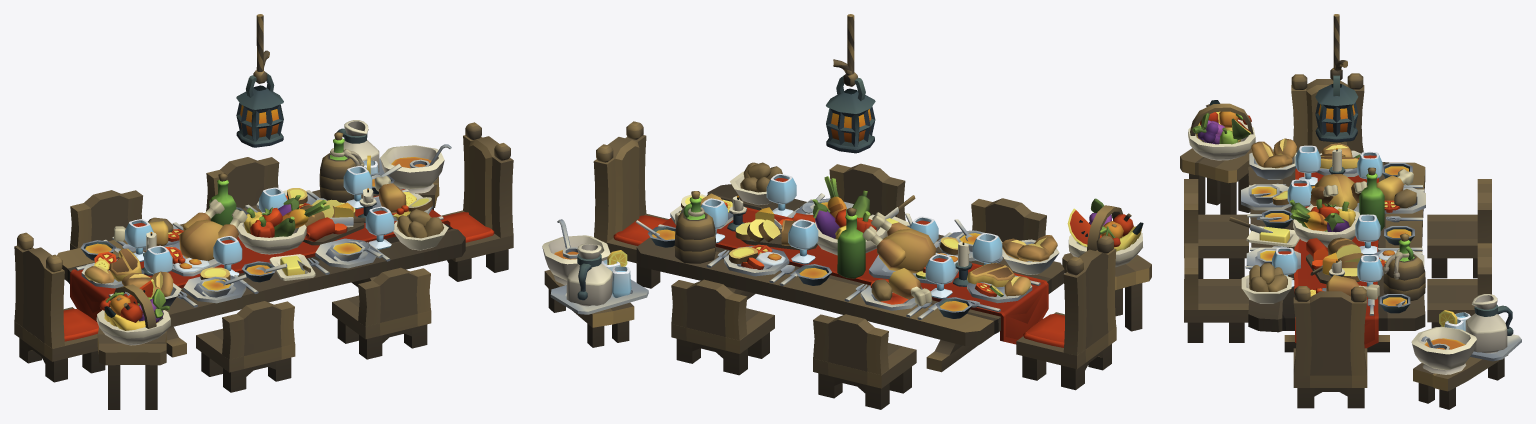
The model's file is table_with_food_prefab.fbx.
3 renders of one model, left to right at view 1: azimuth 30°, elevation 25°; view 2: azimuth 150°, elevation 25°; view 3: azimuth 270°, elevation 25°, orthographic. The views are drawn at different scales.
Visible parts, largest first — view 1: table_with_food_prefab; view 2: table_with_food_prefab; view 3: table_with_food_prefab.
Part boxes in pixels (x1,y1,x2,y2): table_with_food_prefab: [14, 14, 513, 409]; table_with_food_prefab: [542, 14, 1151, 409]; table_with_food_prefab: [1180, 14, 1521, 409].
Bounding box in the file's own units: 497 × 299 × 325.
